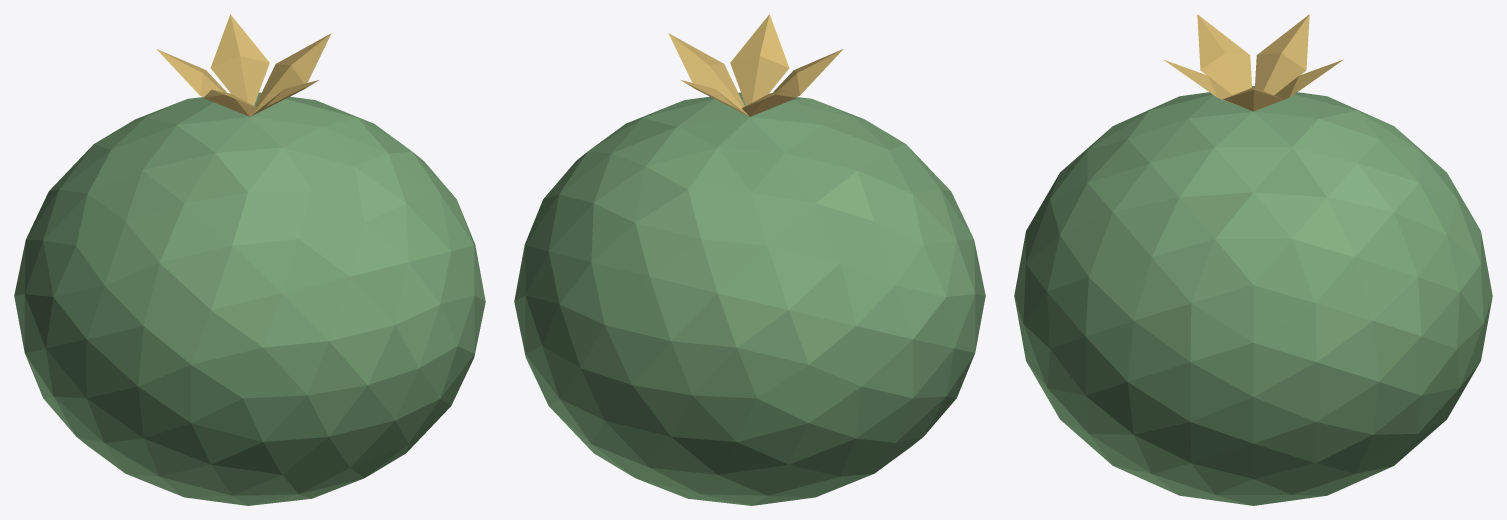
Rendered from cactus_barrel_round.glb.
3 views of the same model, side by side, from view 1: azimuth 30°, elevation 25°; view 2: azimuth 150°, elevation 25°; view 3: azimuth 270°, elevation 25° (orthographic).
Parts seen in each view (by area): view 1: cactus, flower_petal_1, flower_petal_0, flower_petal_2, flower_petal_3; view 2: cactus, flower_petal_4, flower_petal_0, flower_petal_3, flower_petal_2; view 3: cactus, flower_petal_2, flower_petal_3, flower_petal_0, flower_petal_1, flower_petal_4.
Boxes of the visible parts, left/top/right/bottom form: cactus: left=14, top=92, right=485, bottom=505; flower_petal_1: left=210, top=14, right=269, bottom=105; flower_petal_0: left=251, top=33, right=331, bottom=115; flower_petal_2: left=156, top=49, right=226, bottom=97; flower_petal_3: left=203, top=89, right=257, bottom=116; cactus: left=514, top=92, right=985, bottom=505; flower_petal_4: left=730, top=14, right=789, bottom=105; flower_petal_0: left=668, top=33, right=748, bottom=115; flower_petal_3: left=773, top=49, right=843, bottom=97; flower_petal_2: left=742, top=89, right=796, bottom=116; cactus: left=1014, top=86, right=1492, bottom=505; flower_petal_2: left=1255, top=14, right=1309, bottom=94; flower_petal_3: left=1197, top=14, right=1251, bottom=94; flower_petal_0: left=1223, top=87, right=1283, bottom=111; flower_petal_1: left=1264, top=59, right=1343, bottom=107; flower_petal_4: left=1163, top=59, right=1242, bottom=107.
Size of the model in its own units: 0.7 by 0.7 by 0.7.
